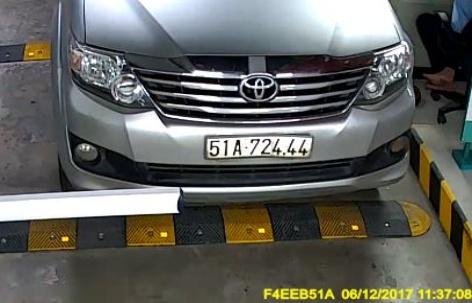plate: (204, 128, 320, 168)
